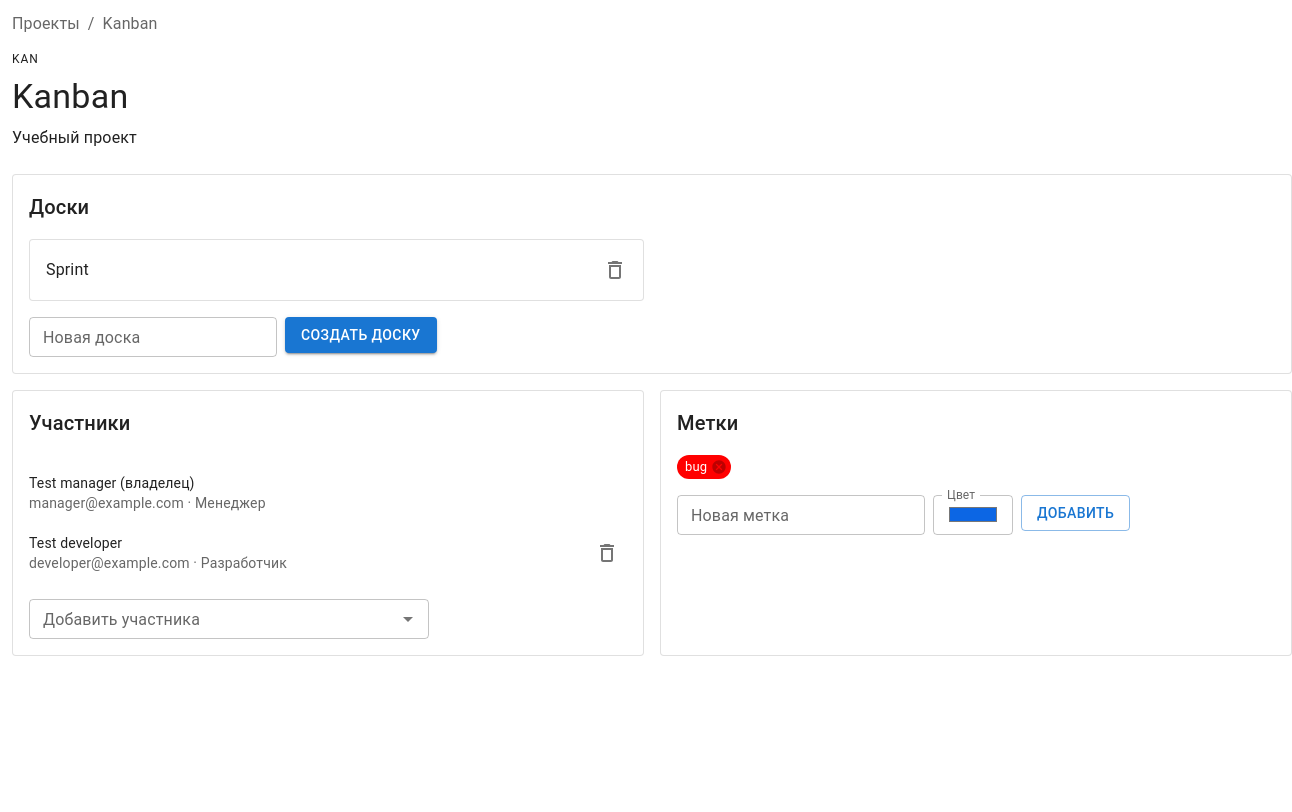
Test: ProjectPage › владелец добавляет и исключает участников
The image size is (1292, 812).
expect the text "Test manager (владелец)" is shown: met, box [29,475,195,491]
Type "Outs" into the dropdown labelled "Добавить участника". click: (212, 619)
box: [35,605,390,633]
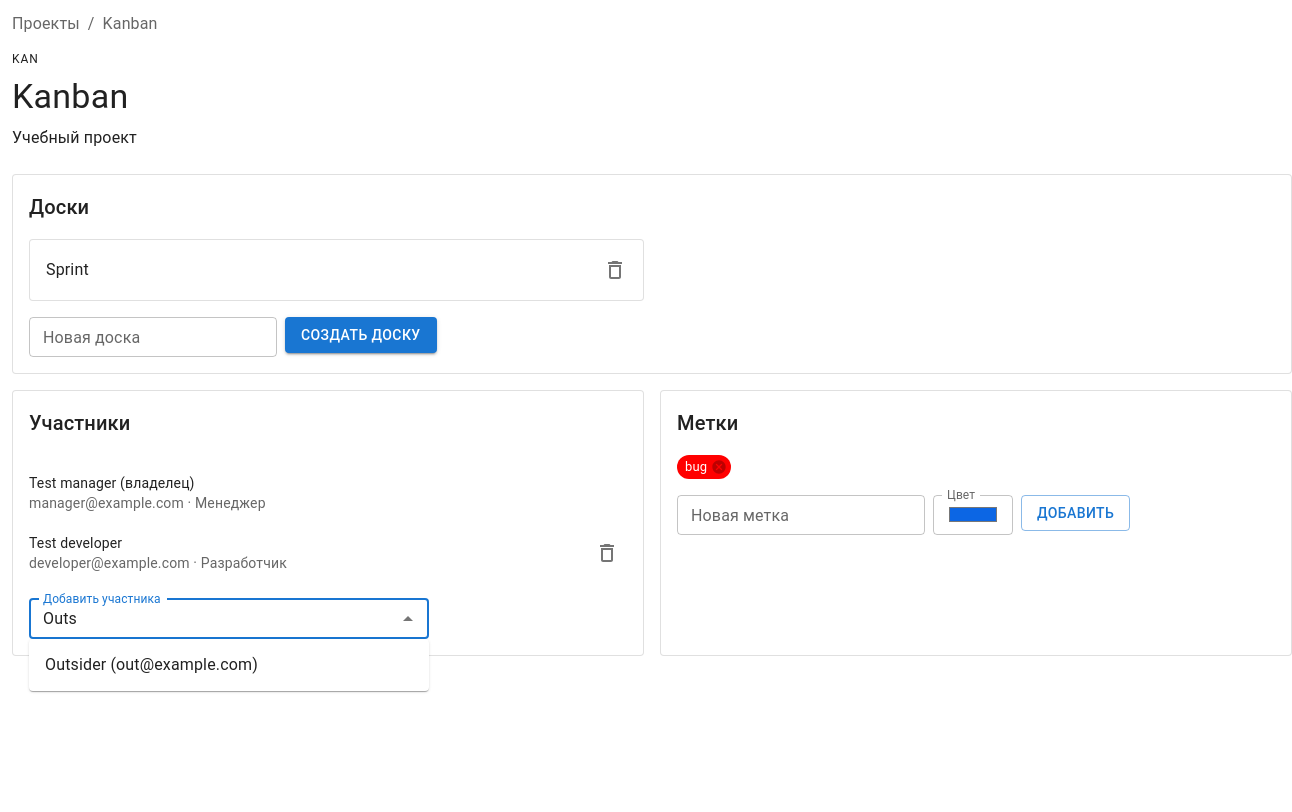
Click the option "Outsider (out@example.com)". click: (151, 664)
box: [45,655,258,674]
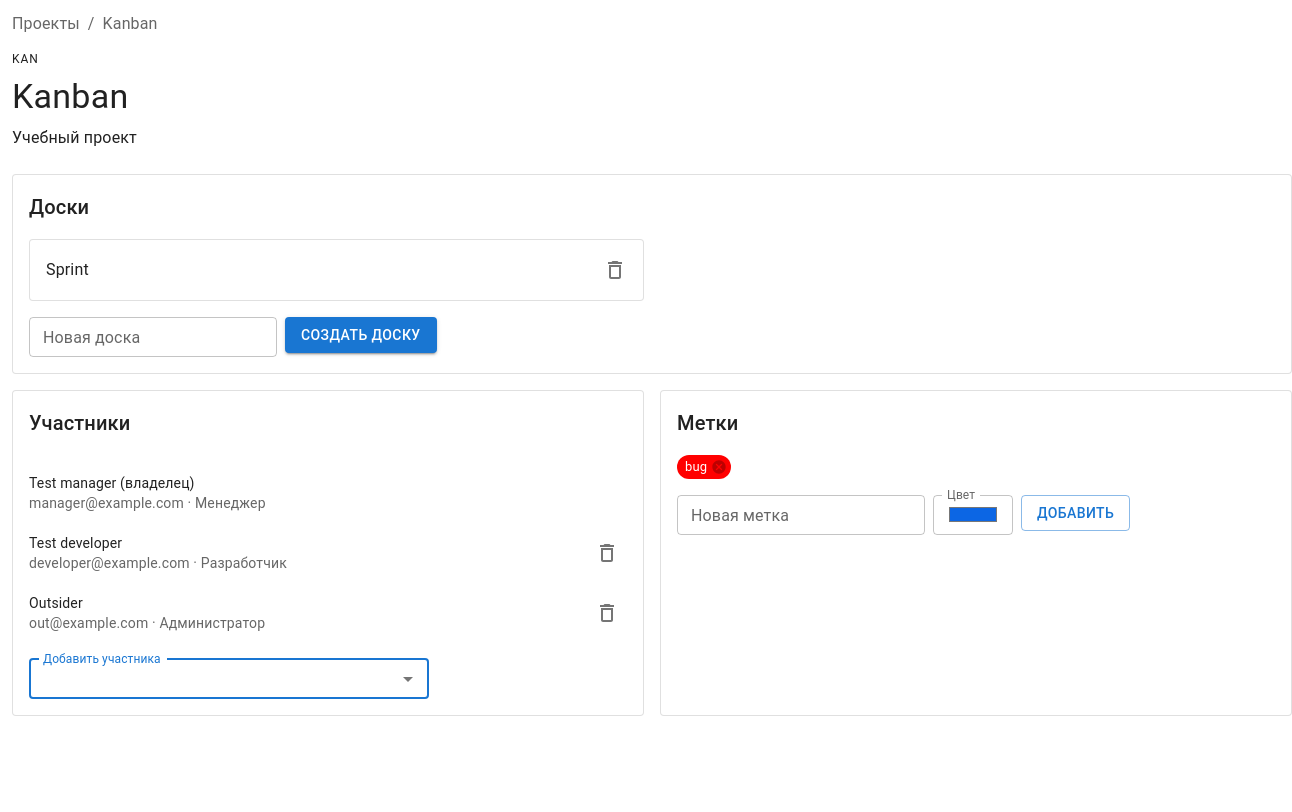
expect the text "Outsider" is shown: met, box [29,595,83,611]
Click the button named "Исключить Outsider". click: (607, 613)
box: [587,593,627,633]
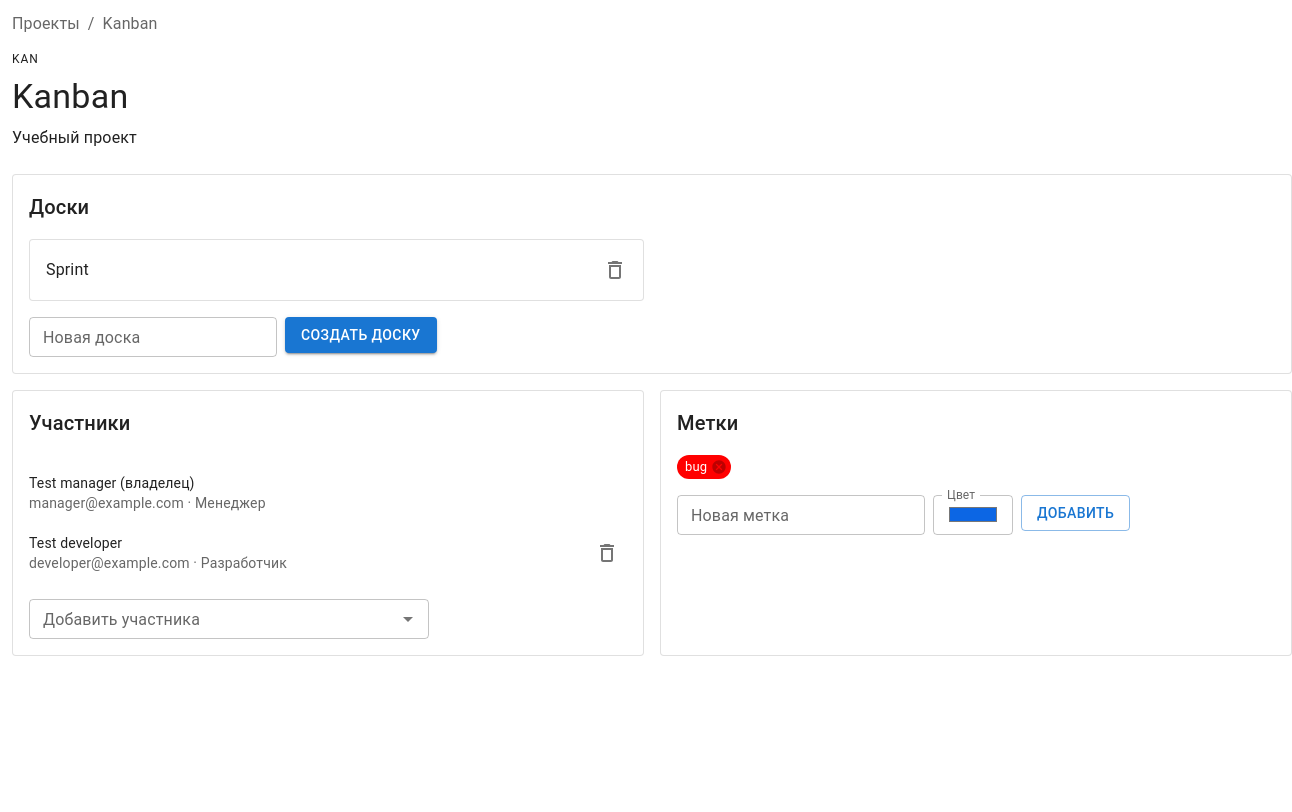
expect the text "Outsider" is gone: met
